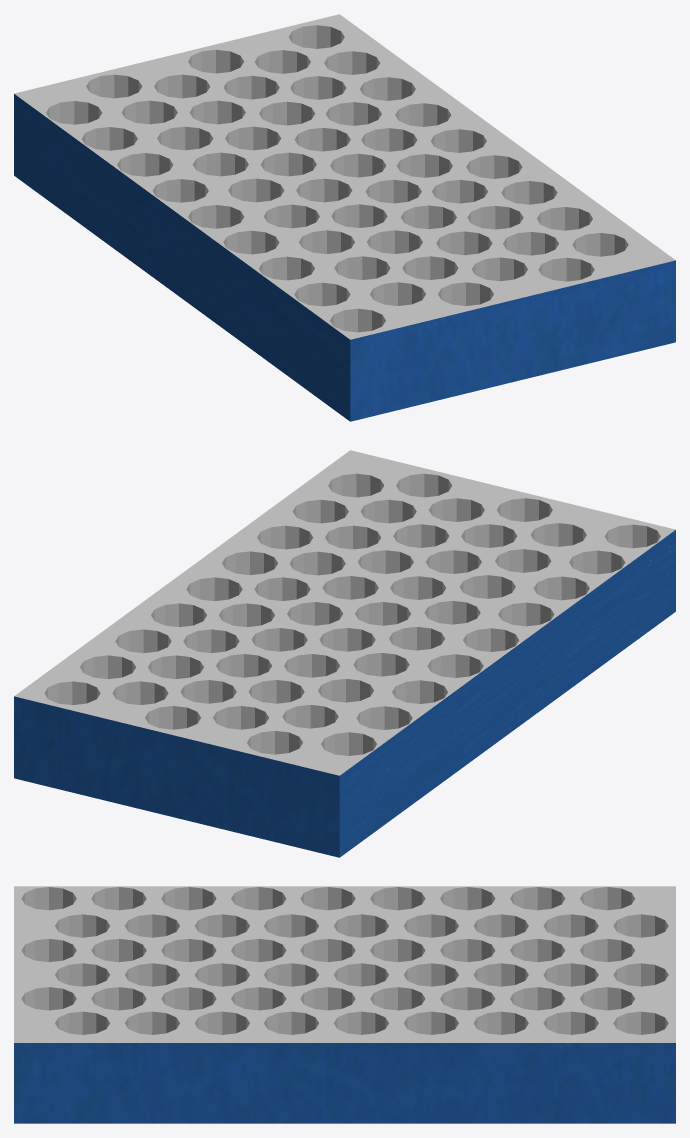
The model's file is SM_样品盘.FBX.
3 views of the same model, one above another, from view 1: azimuth 30°, elevation 25°; view 2: azimuth 150°, elevation 25°; view 3: azimuth 270°, elevation 25° (orthographic).
Visible parts, largest first — view 1: SM_样品盘; view 2: SM_样品盘; view 3: SM_样品盘.
Boxes of the visible parts, x1=… form: SM_样品盘: x1=14, y1=14, x2=675, y2=421; SM_样品盘: x1=14, y1=450, x2=675, y2=857; SM_样品盘: x1=14, y1=886, x2=675, y2=1123.
Bounding box in the file's own units: 86.8 × 20.89 × 155.
